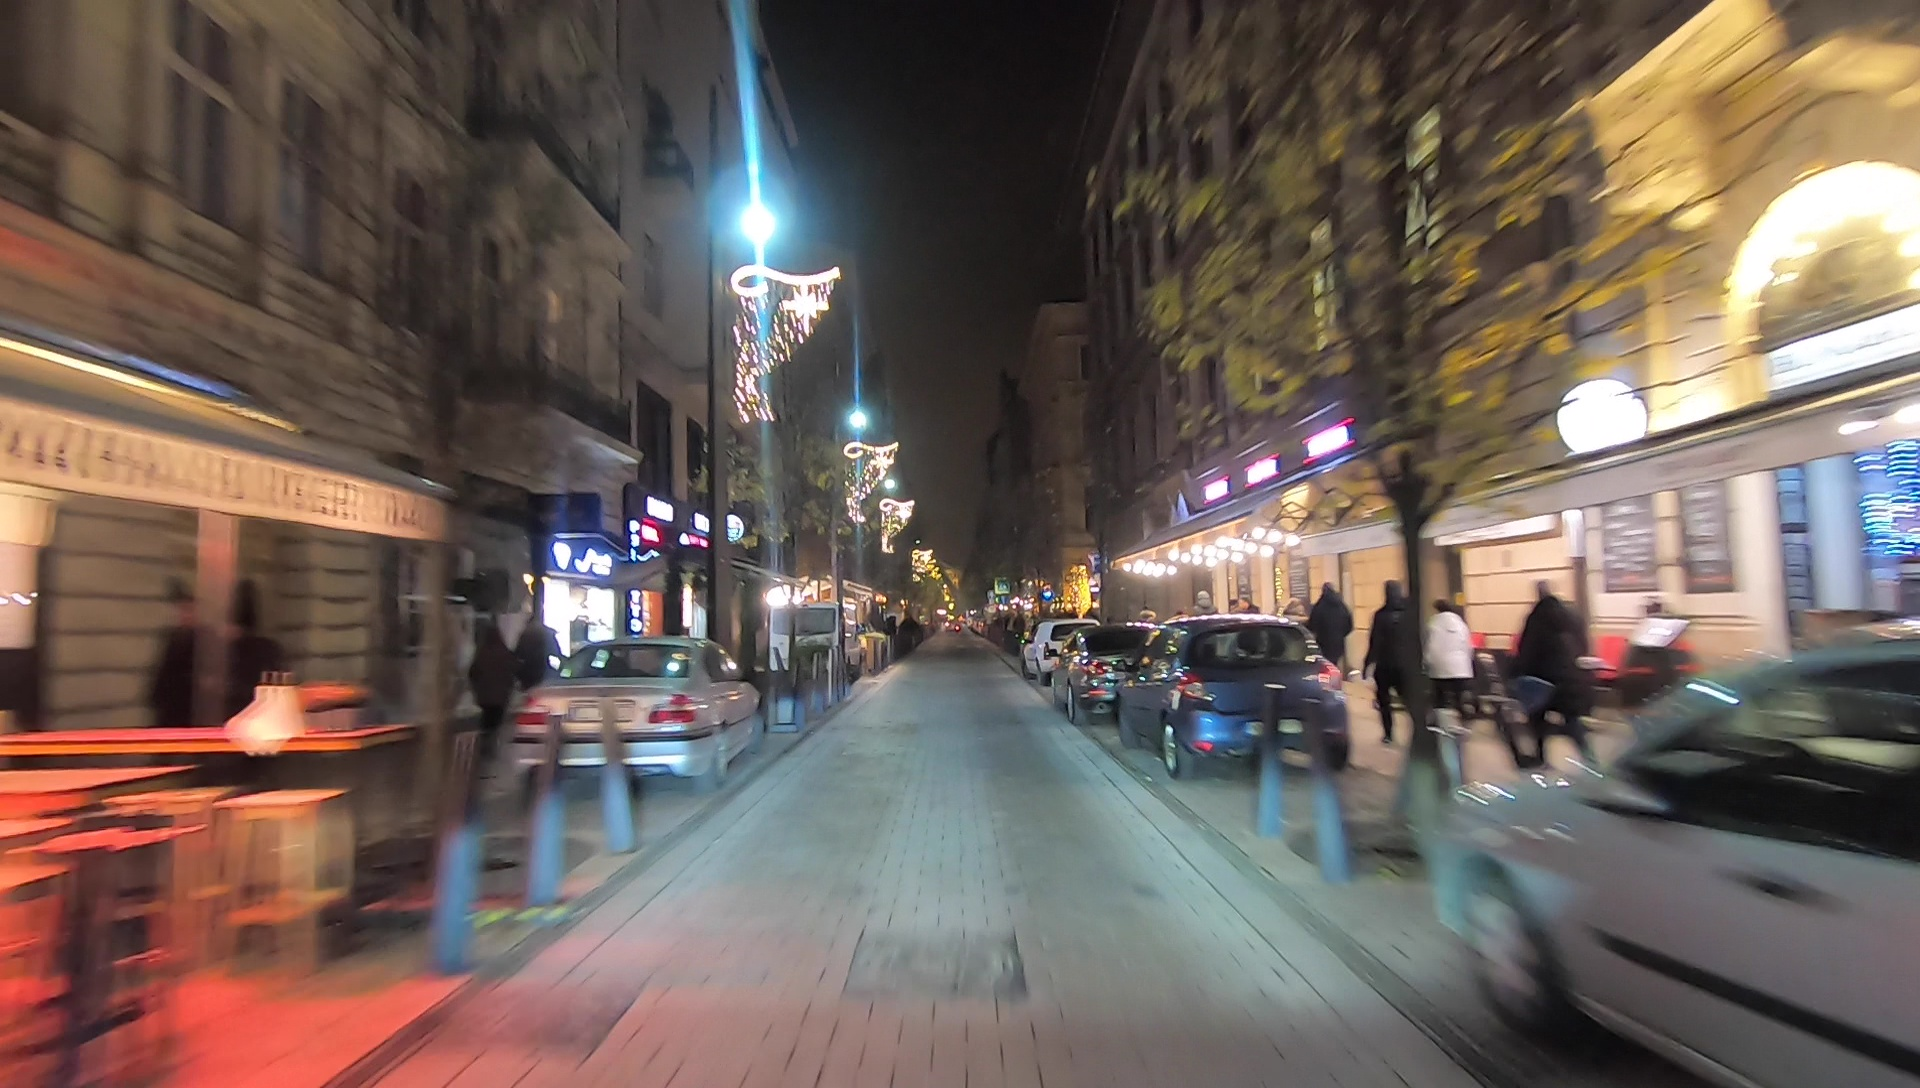person: (1514, 578, 1602, 784), (214, 602, 278, 773), (1362, 584, 1425, 754), (1417, 599, 1482, 747), (156, 600, 199, 761), (467, 606, 512, 747), (1306, 578, 1352, 710), (515, 600, 554, 736)
